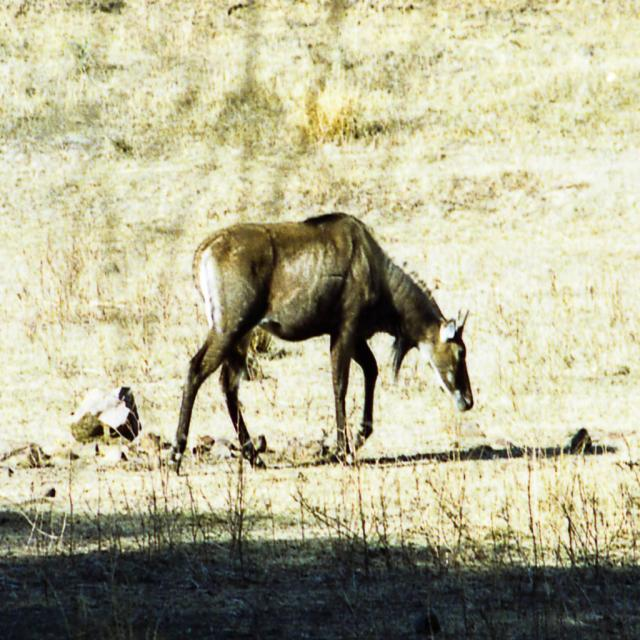Horse: (167, 212, 473, 476)
